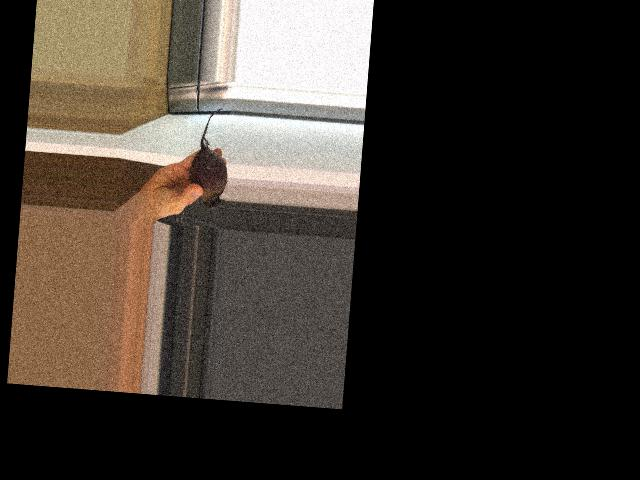beet: (187, 106, 233, 213)
